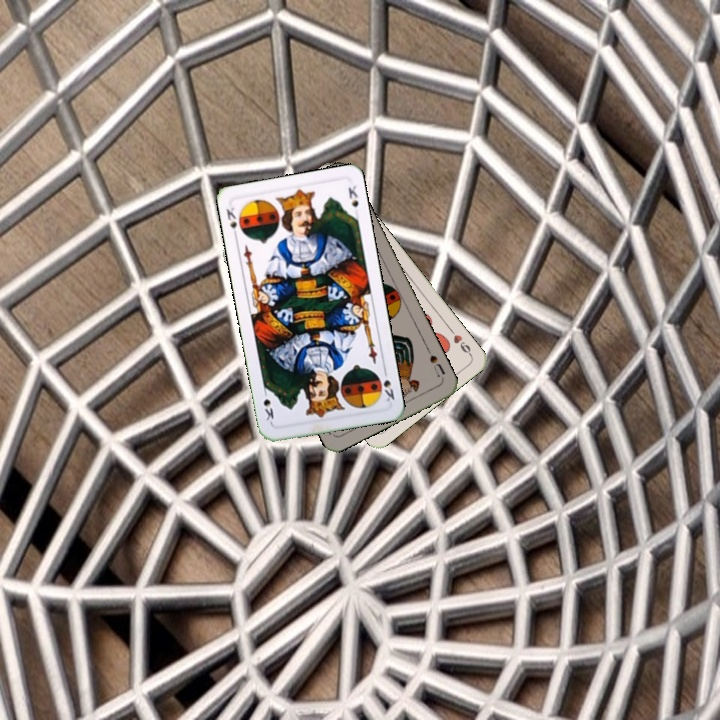H9: (445, 324, 474, 358)
SK: (379, 365, 397, 404), (222, 204, 240, 241)
SU: (422, 344, 448, 382)
